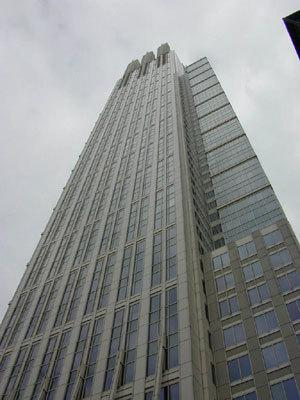building: (0, 43, 300, 400)
